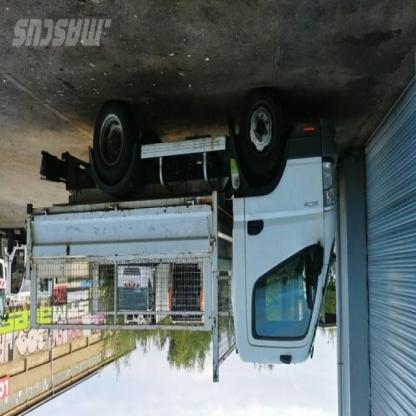truck: (26, 90, 342, 383)
